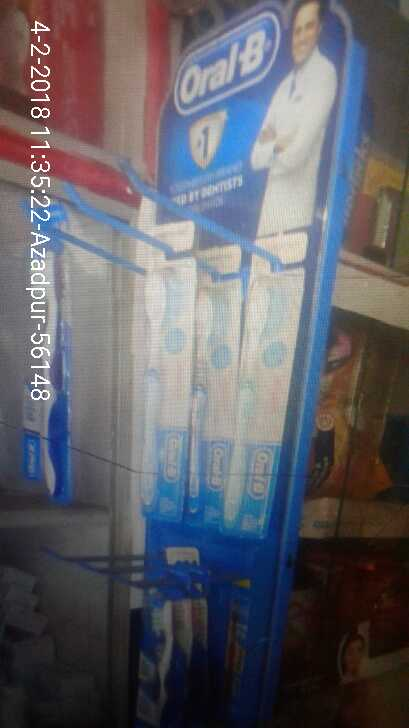oralb: (24, 240, 84, 504), (211, 269, 267, 525), (118, 256, 169, 518)
